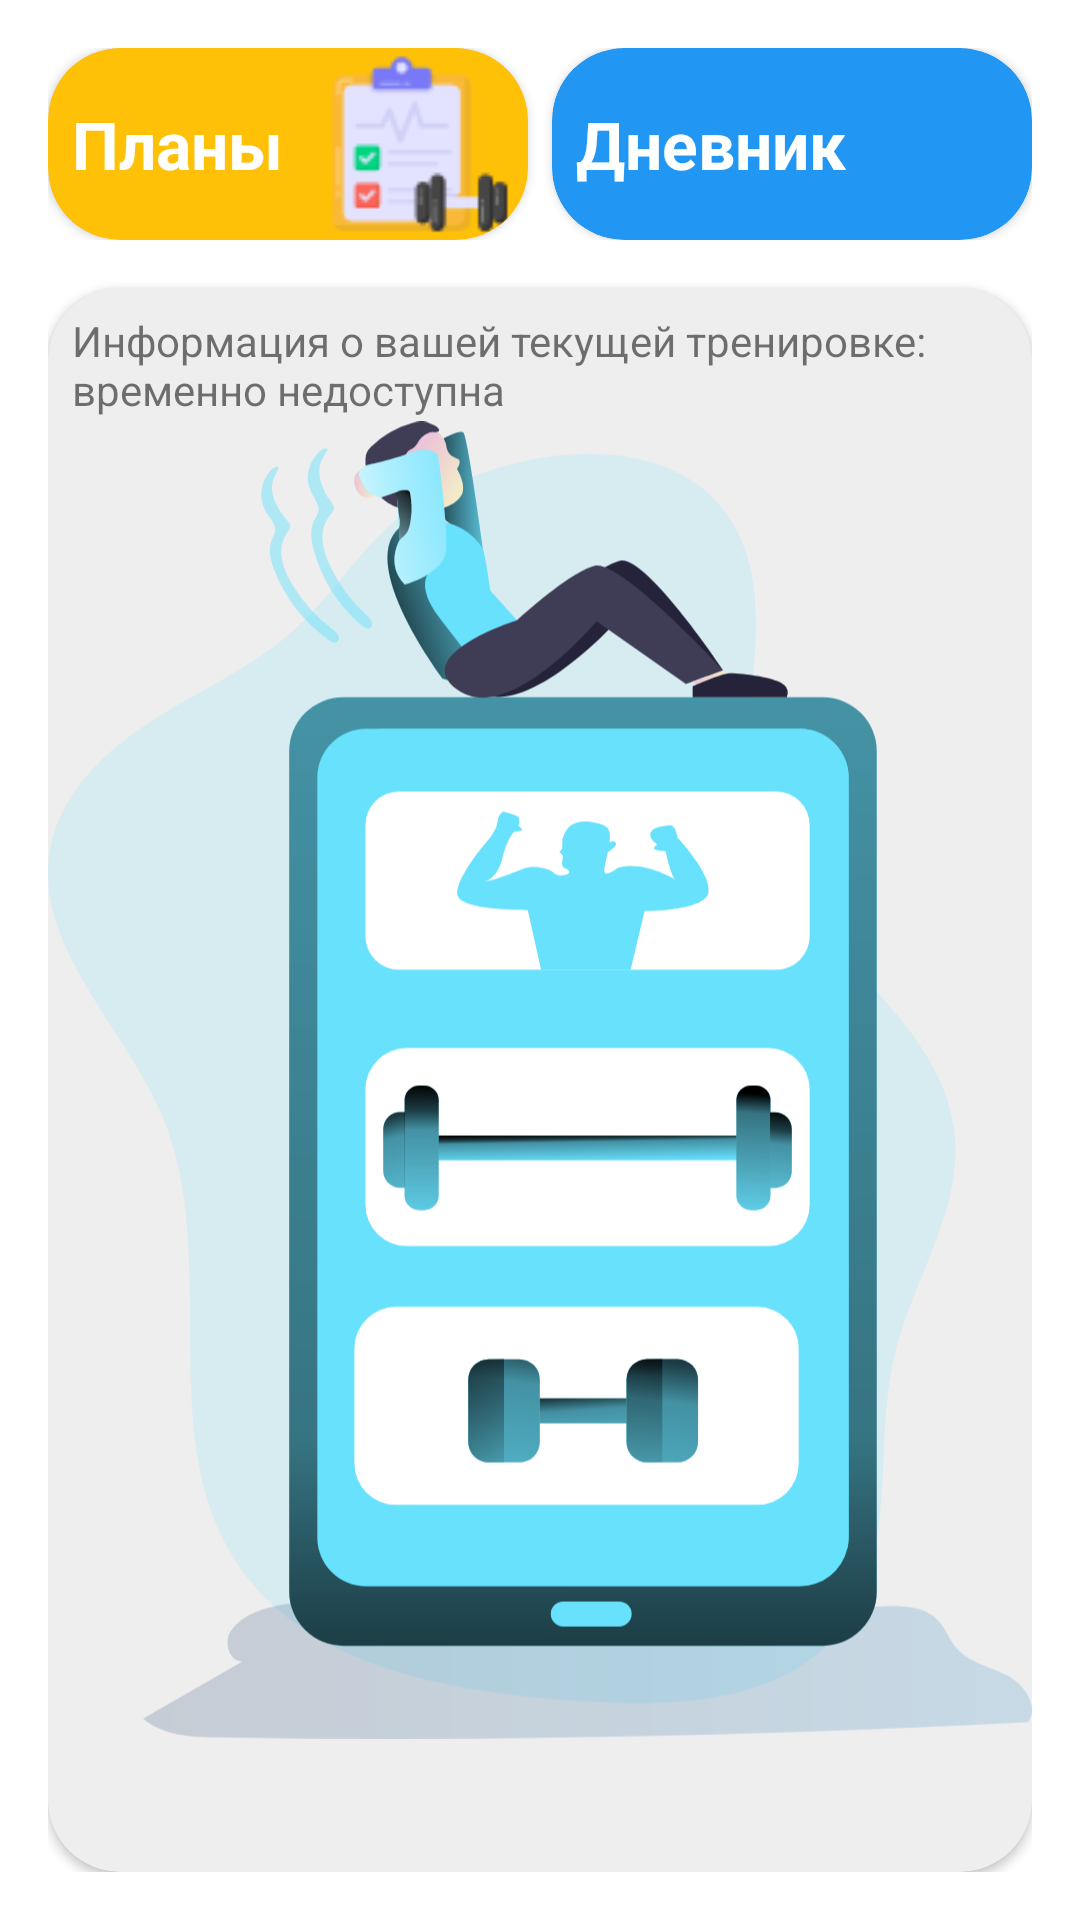

Icons on this 1080 x 1920 Android screen, each with its box as region(x1, y1, x2, y2):
workout plan: region(324, 48, 516, 240)
